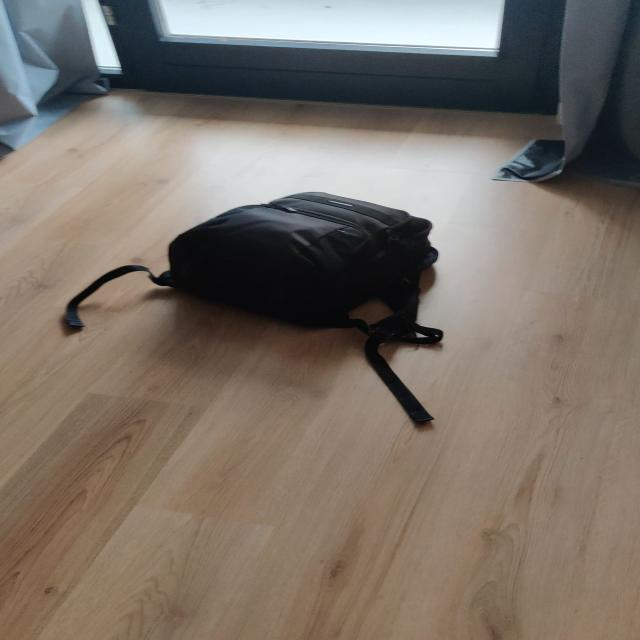backpack: (143, 187, 449, 331)
